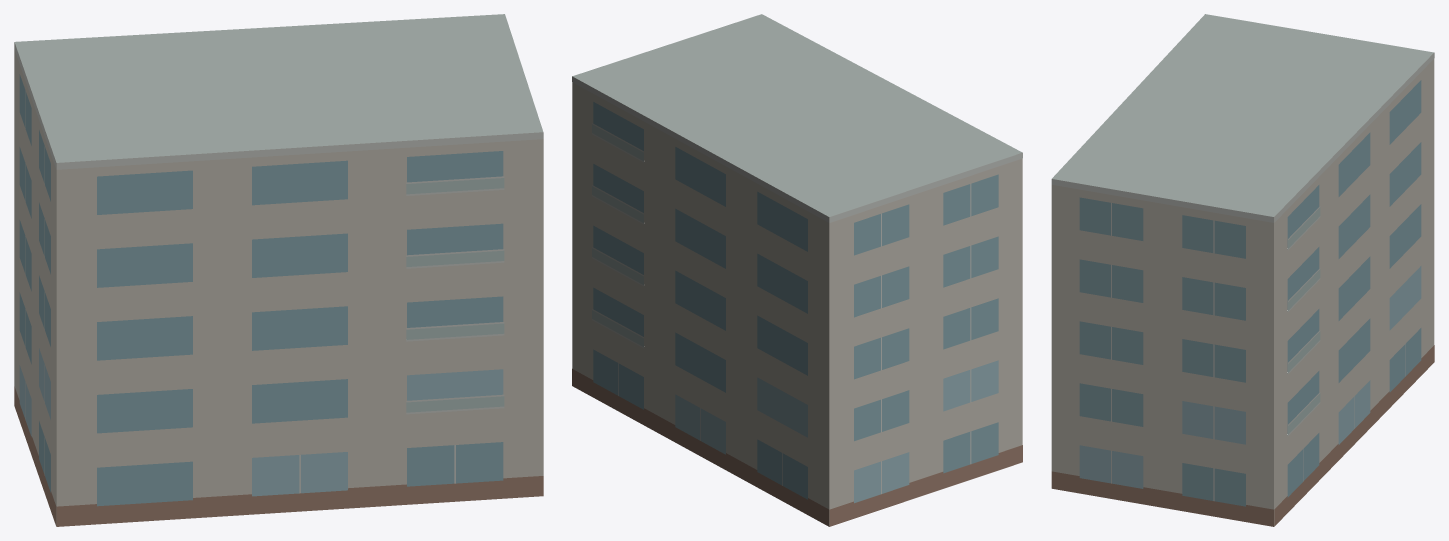
File: survey-upis-32808066.glb
3 views of the same model, side by side, from view 1: azimuth 30°, elevation 25°; view 2: azimuth 150°, elevation 25°; view 3: azimuth 270°, elevation 25° (orthographic). The views are drawn at different scales.
Visible parts, largest first — view 1: survey-upis-32808066.tmp; view 2: survey-upis-32808066.tmp; view 3: survey-upis-32808066.tmp.
Part boxes in pixels (bbox=[...]): survey-upis-32808066.tmp: bbox=[14, 14, 543, 526]; survey-upis-32808066.tmp: bbox=[572, 14, 1022, 526]; survey-upis-32808066.tmp: bbox=[1051, 14, 1434, 526].
Bounding box in the file's own units: 18.15 × 12.9 × 14.46.
